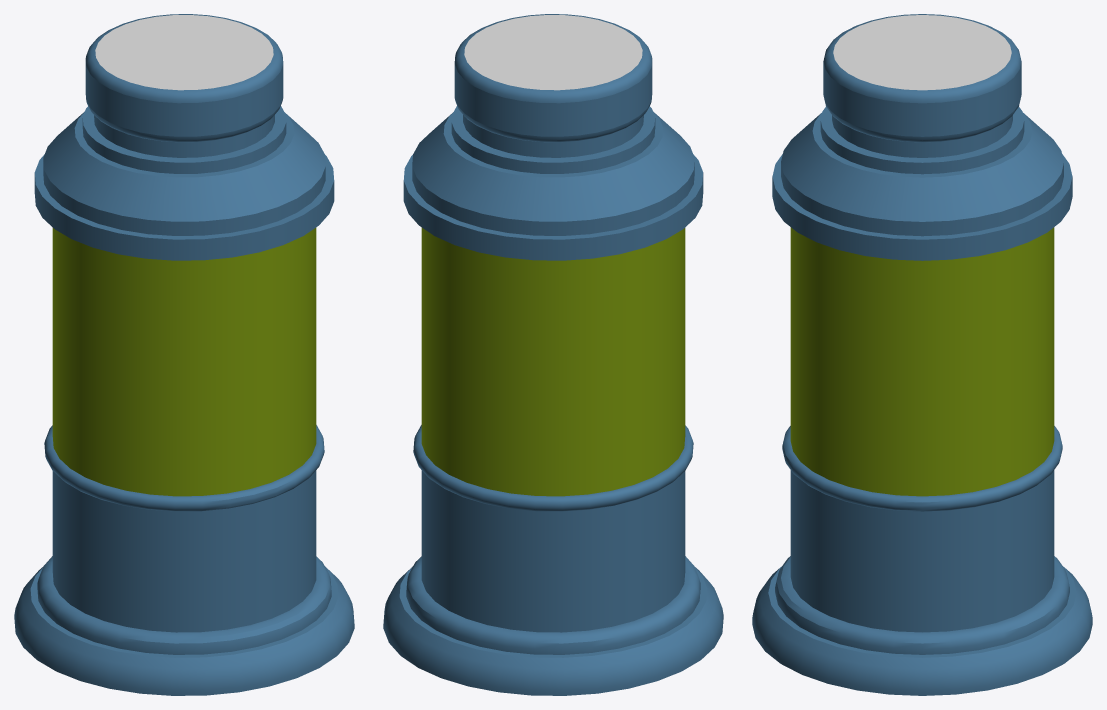
The model's file is Container_Style_12.fbx.
3 renders of one model, left to right at view 1: azimuth 30°, elevation 25°; view 2: azimuth 150°, elevation 25°; view 3: azimuth 270°, elevation 25°, orthographic.
Parts seen in each view (by area): view 1: SetA_Container_Style_12; view 2: SetA_Container_Style_12; view 3: SetA_Container_Style_12.
Part boxes in pixels (<box>): SetA_Container_Style_12: <box>14,14,354,695</box>; SetA_Container_Style_12: <box>383,14,723,695</box>; SetA_Container_Style_12: <box>752,14,1092,695</box>.
Bounding box in the file's own units: 0.17 × 0.3146 × 0.17.
